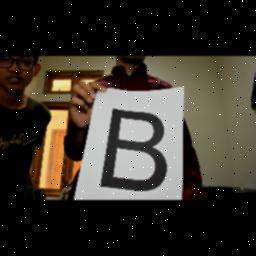b: (98, 104, 172, 194)
